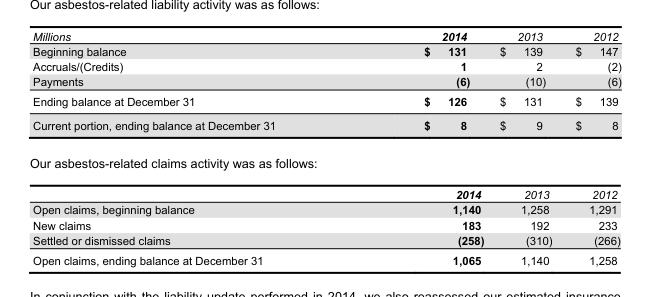table: (28, 29, 620, 266)
table column: (28, 29, 349, 266), (349, 29, 491, 266), (491, 29, 563, 266), (563, 29, 620, 266)
table column header: (28, 29, 620, 43)
table projected row header: (28, 143, 620, 178)
table row: (28, 143, 620, 178), (28, 112, 620, 143), (28, 178, 620, 201), (28, 91, 620, 112), (28, 73, 620, 91), (28, 232, 620, 249), (28, 249, 620, 266), (28, 201, 620, 217), (28, 43, 620, 58), (28, 58, 620, 73), (28, 217, 620, 232), (28, 29, 620, 43)
